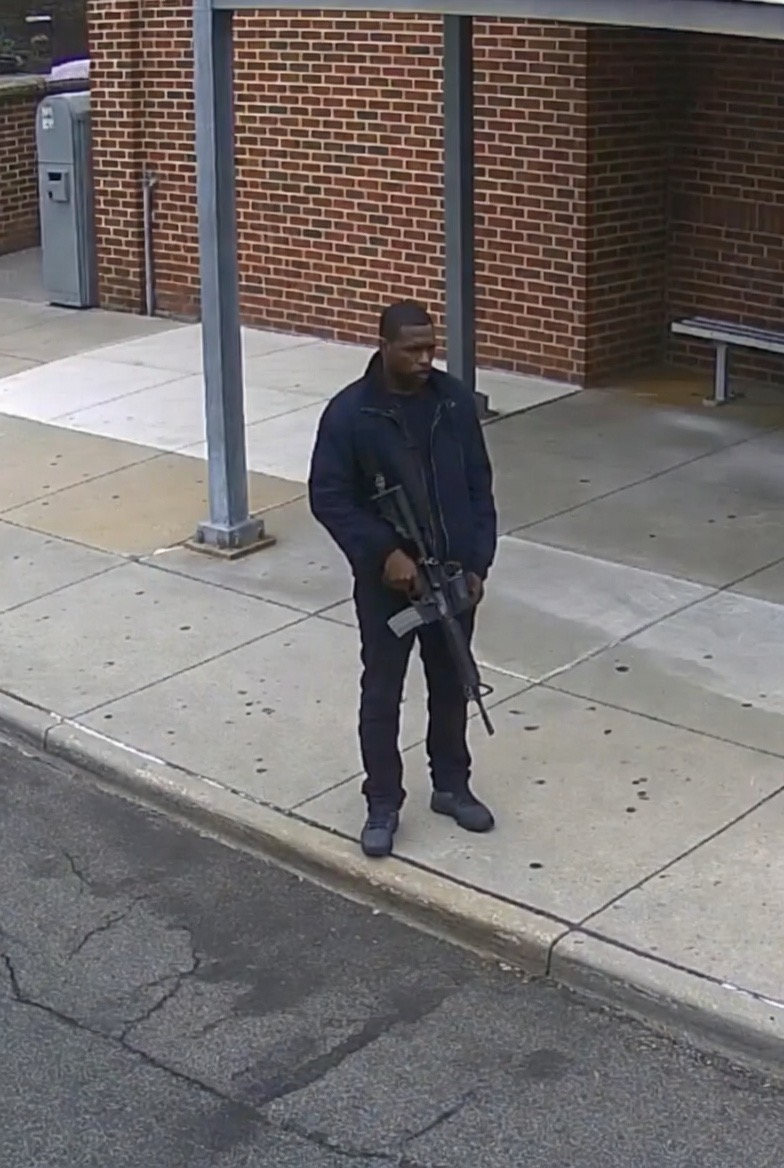person: (308, 298, 500, 857)
umbrella: (371, 480, 496, 737)
weapon: (371, 480, 495, 737)
